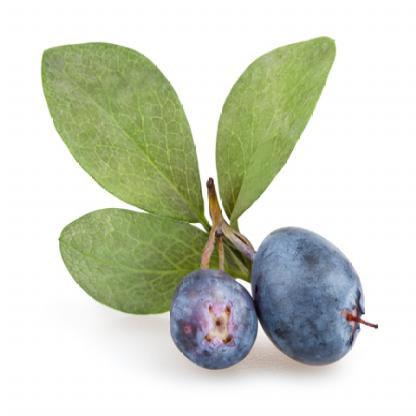blueberry leaf: (36, 42, 209, 228), (215, 28, 345, 237), (50, 208, 181, 316)
